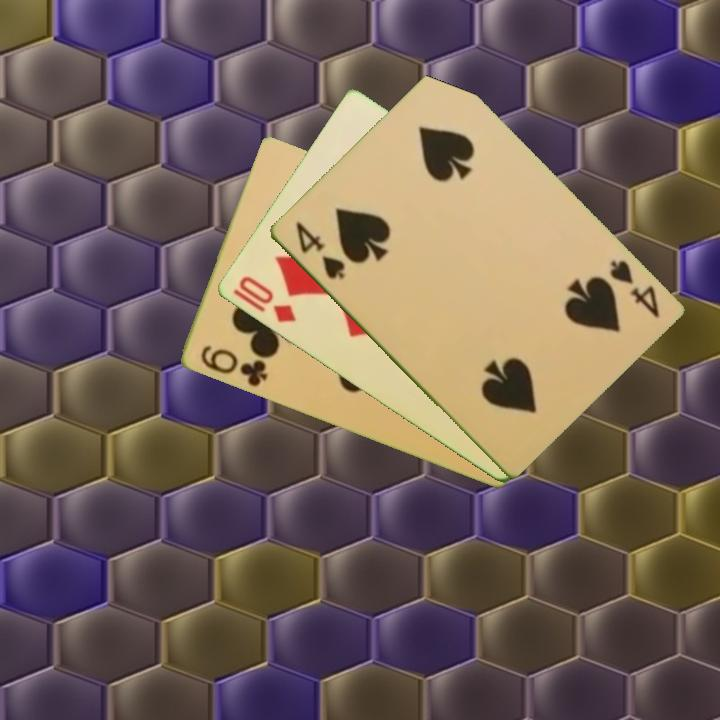10d: (228, 272, 299, 326)
4s: (605, 256, 662, 322), (291, 218, 348, 283)
6c: (196, 341, 270, 390)
